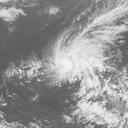cyclone: (47, 36, 102, 84)
